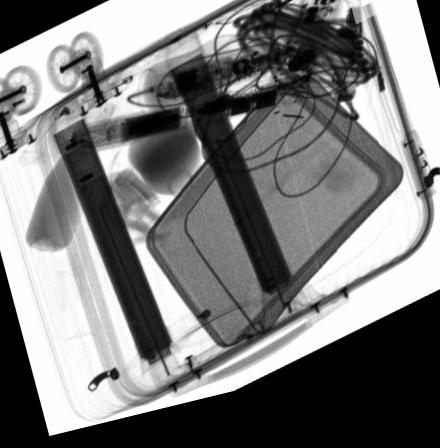Baton: (63, 90, 310, 154)
